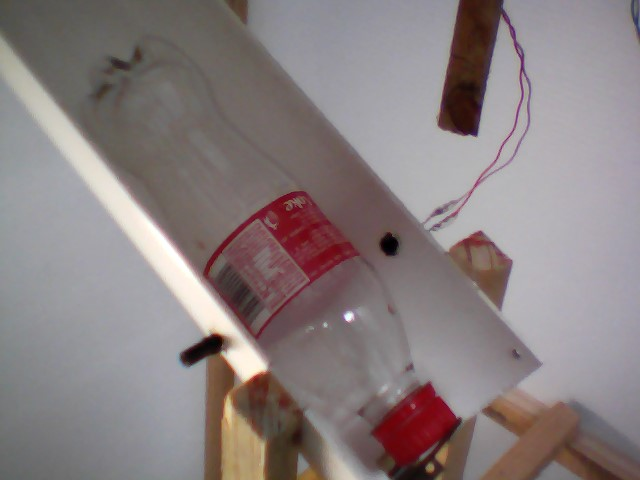plastico: (67, 37, 466, 466)
